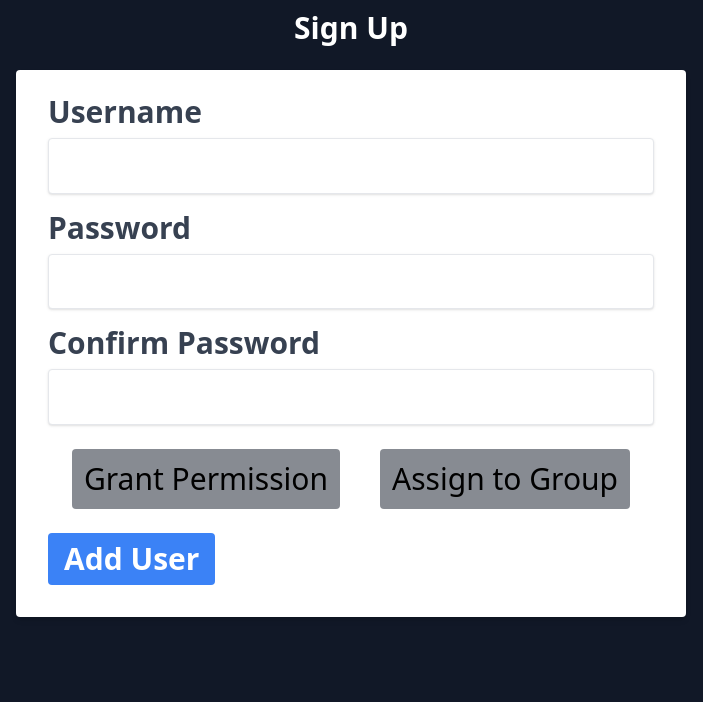
it: AddUser Component Suite › renders permissions when Grant Permission button is clicked
Click the button "Grant Permission": click(206, 478) [72,448,340,508]
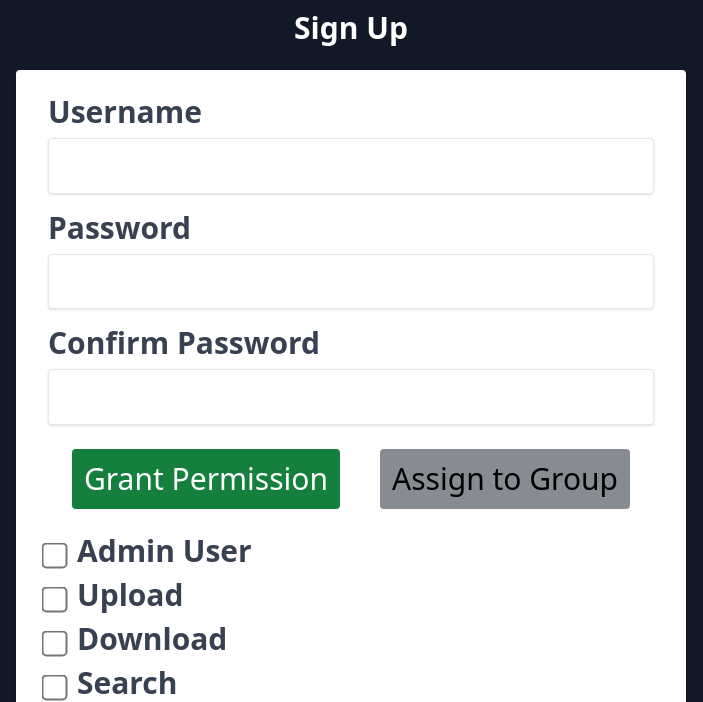
expect the checkbox labelled "Admin User" is shown: met, box [42,542,68,568]
